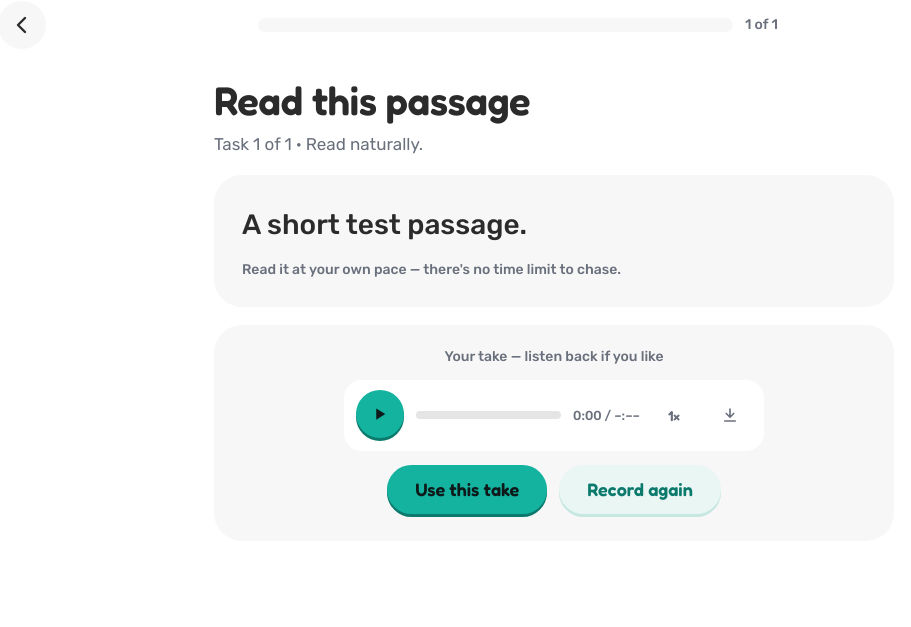
Test: retrying an assessment upload starts polling and advances after quality acceptance
Click the button "Use this take".
click(467, 489)  # box [387, 465, 547, 514]
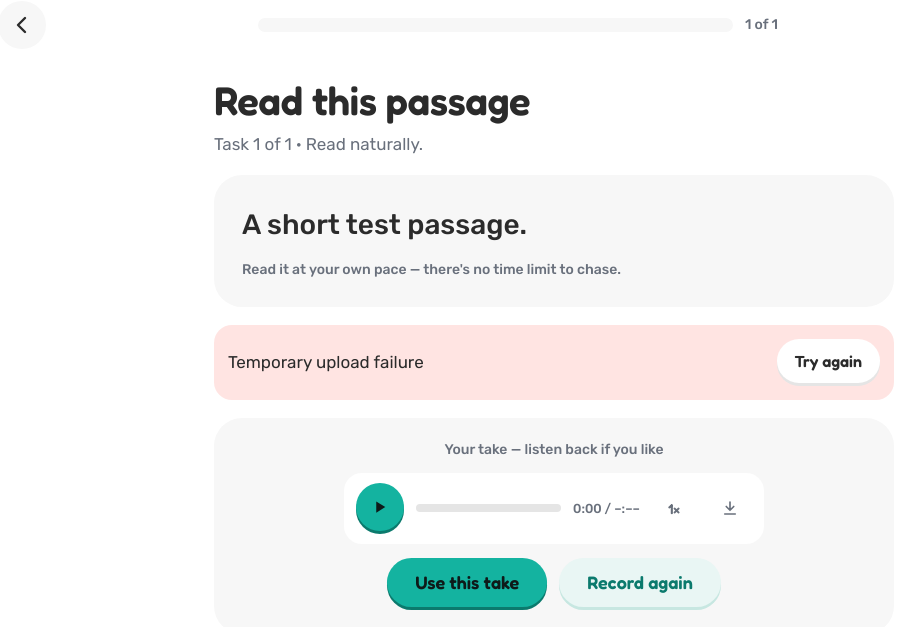
Now the text "Temporary upload failure" is shown, box [228, 349, 424, 376]
Click the button "Try again".
click(828, 361)  # box [777, 339, 880, 383]
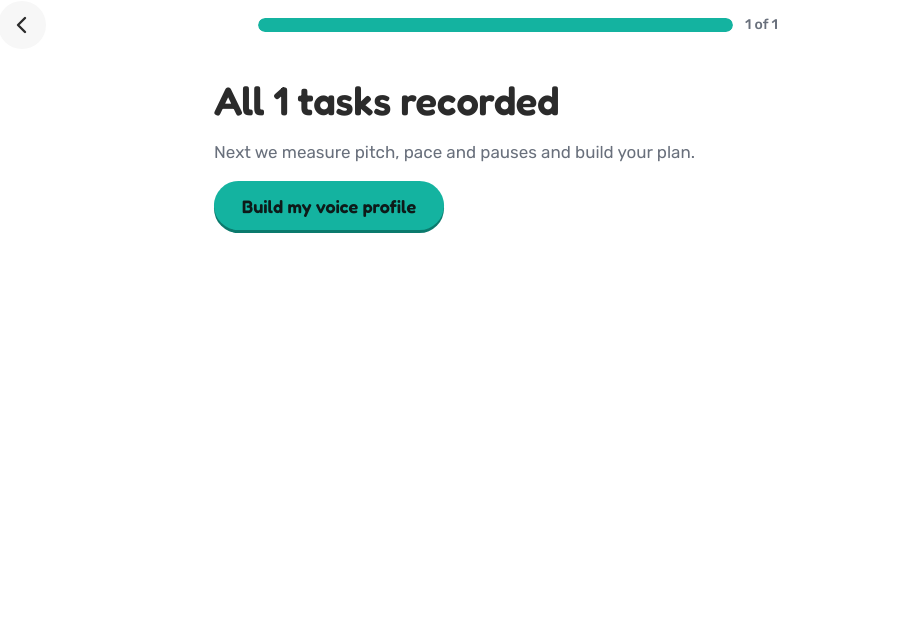
Now the heading "All 1 tasks recorded" is shown, box [214, 77, 559, 123]
